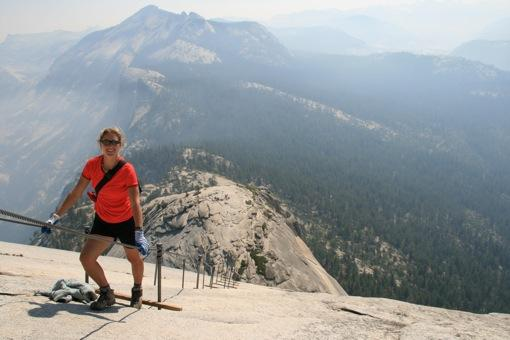person: (39, 126, 150, 312)
